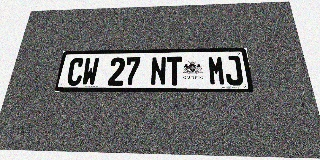2: (108, 57, 125, 86)
7: (123, 57, 140, 86)
C: (66, 58, 85, 86)
J: (224, 56, 244, 85)
M: (207, 56, 226, 85)
N: (150, 57, 166, 85)
T: (167, 56, 183, 85)
W: (81, 58, 100, 86)
